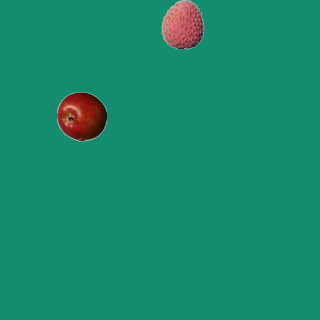Apple Braeburn: (56, 91, 106, 141)
Lychee: (157, 0, 207, 49)
